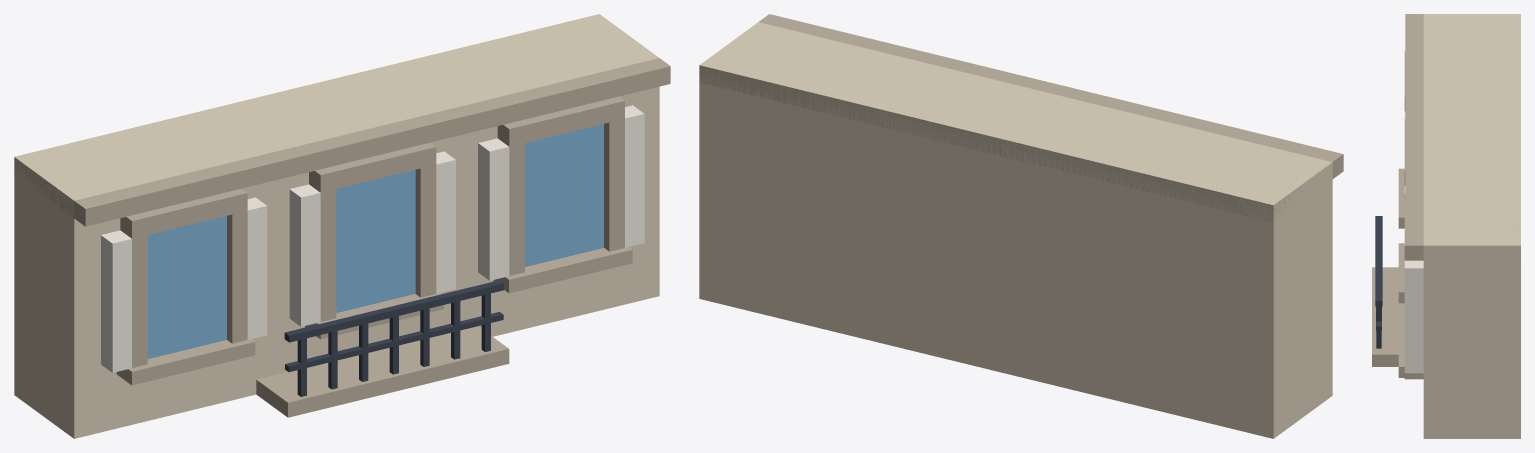
File: cittaVecchiaPianoA.glb
The picture shows the model from 3 angles, left to right: view 1: azimuth 30°, elevation 25°; view 2: azimuth 150°, elevation 25°; view 3: azimuth 270°, elevation 25°; orthographic projection. The views are drawn at different scales.
Parts seen in each view (by area): view 1: cittaVecchiaPianoA_plaster, cittaVecchiaPianoA_stone, cittaVecchiaPianoA_glass, cittaVecchiaPianoA_white, cittaVecchiaPianoA_steelDark; view 2: cittaVecchiaPianoA_plaster, cittaVecchiaPianoA_stone; view 3: cittaVecchiaPianoA_plaster, cittaVecchiaPianoA_stone, cittaVecchiaPianoA_white, cittaVecchiaPianoA_steelDark.
Boxes of the visible parts, x1,y1,x2,y2 form: cittaVecchiaPianoA_plaster: (14, 14, 659, 438); cittaVecchiaPianoA_stone: (14, 58, 670, 417); cittaVecchiaPianoA_glass: (147, 124, 603, 358); cittaVecchiaPianoA_white: (101, 105, 644, 372); cittaVecchiaPianoA_steelDark: (284, 280, 503, 396); cittaVecchiaPianoA_plaster: (699, 22, 1332, 438); cittaVecchiaPianoA_stone: (699, 14, 1343, 221); cittaVecchiaPianoA_plaster: (1423, 14, 1520, 438); cittaVecchiaPianoA_stone: (1372, 14, 1519, 379); cittaVecchiaPianoA_white: (1404, 111, 1423, 373); cittaVecchiaPianoA_steelDark: (1375, 216, 1382, 348).
Bounding box in the file's own units: 9 × 3.5 × 2.44.
